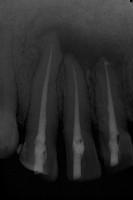Furcation Involvement: (32, 19, 130, 82)
